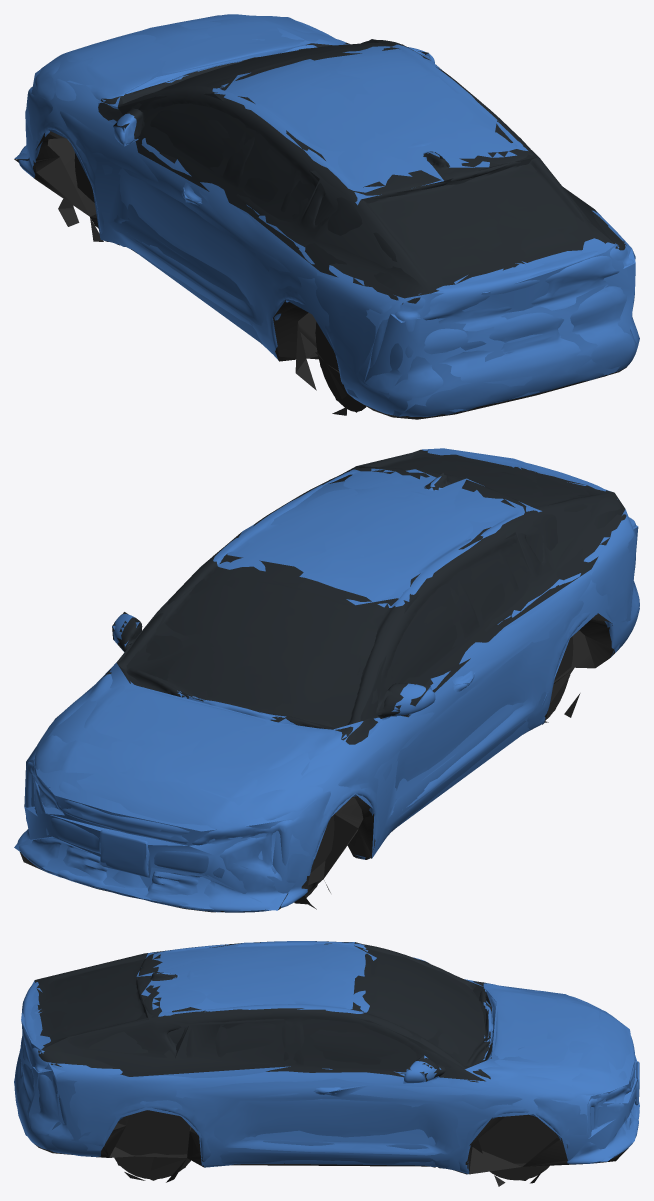
Rendered from kia-forte-k4.glb.
The picture shows the model from 3 angles, top to bottom: view 1: azimuth 30°, elevation 25°; view 2: azimuth 150°, elevation 25°; view 3: azimuth 270°, elevation 25°; orthographic projection. The views are drawn at different scales.
Visible parts, largest first — view 1: body, far; view 2: body, far; view 3: body, far.
Part boxes in pixels (box(x1,y1,x2,y2)): body: box(18, 14, 638, 419); far: box(14, 15, 639, 416); body: box(17, 450, 639, 912); far: box(14, 448, 639, 910); body: box(14, 941, 639, 1186); far: box(14, 942, 639, 1183).
Size of the model in its own units: 2.09 by 1.46 by 4.74.
